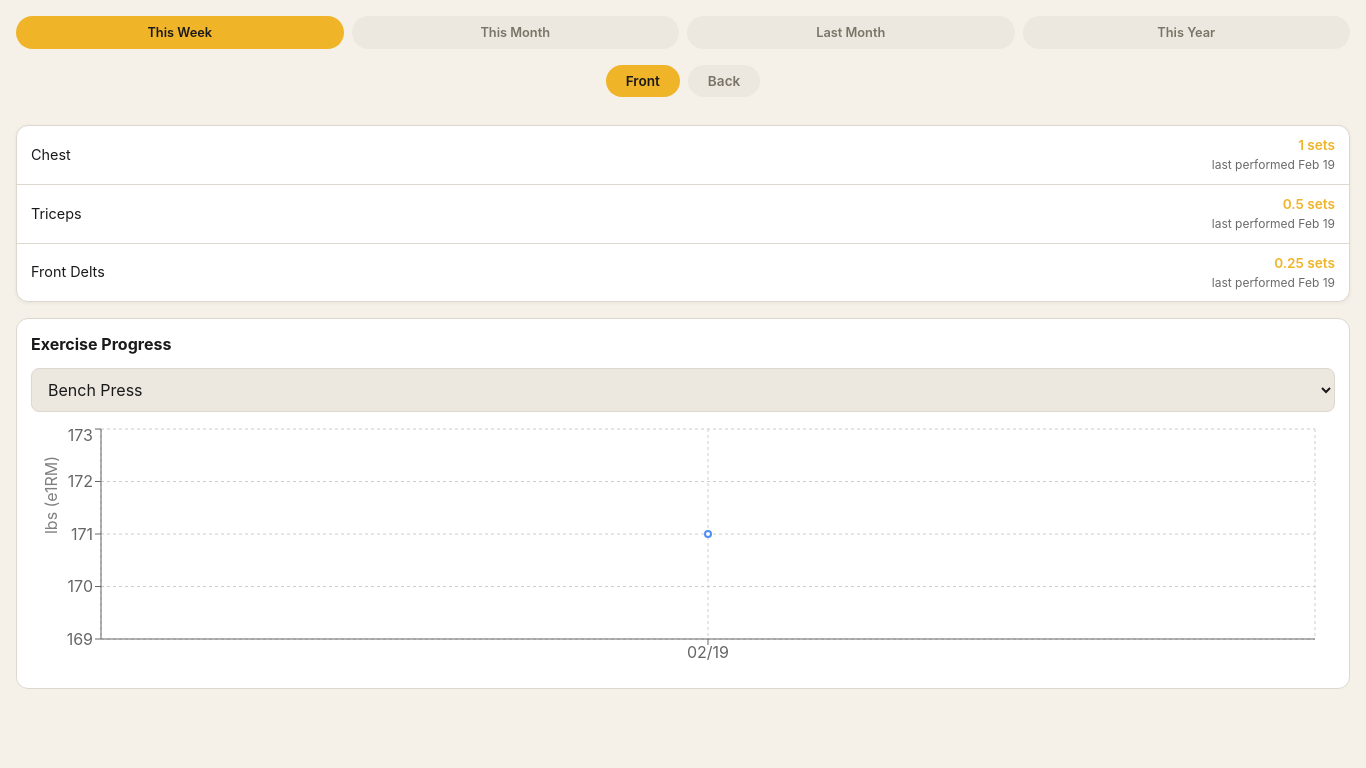
StatsView › shows muscle-avg for month period and hides it for week period
// Month period — avg/wk labels appear (one per muscle)
What coordinates should you click on to do the following:
click the button "This Month"
I would click on:
 (515, 32)
Its box is 352,16 -> 679,49.
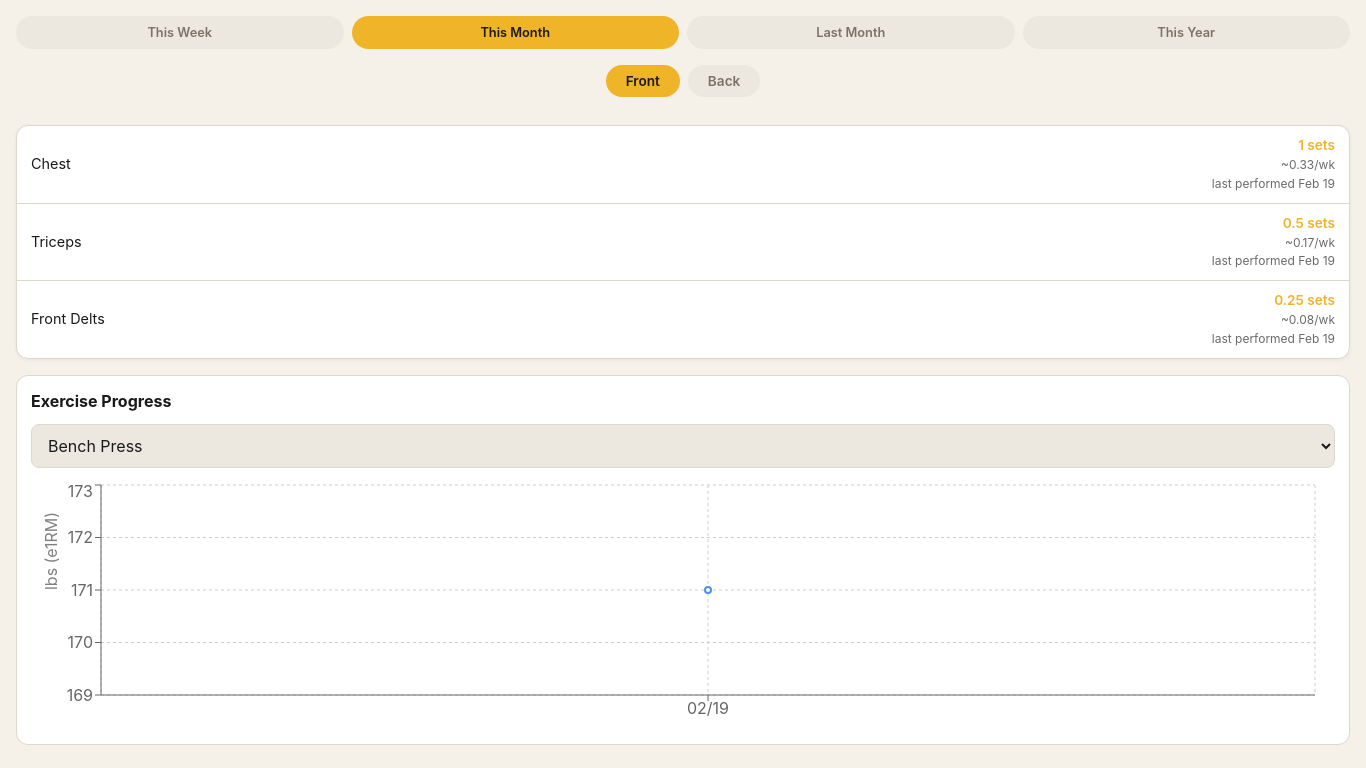
Expected: the text "~0.33/wk" is shown, 1281,157 -> 1335,174
